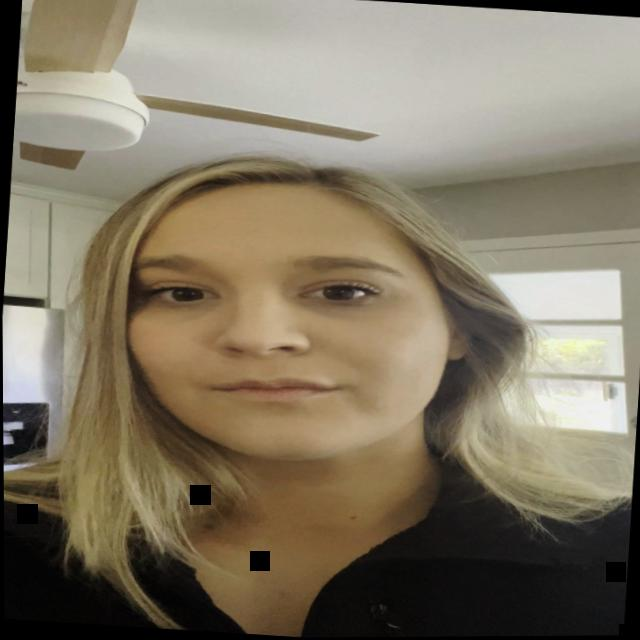NO-Mask: (91, 158, 481, 480)
